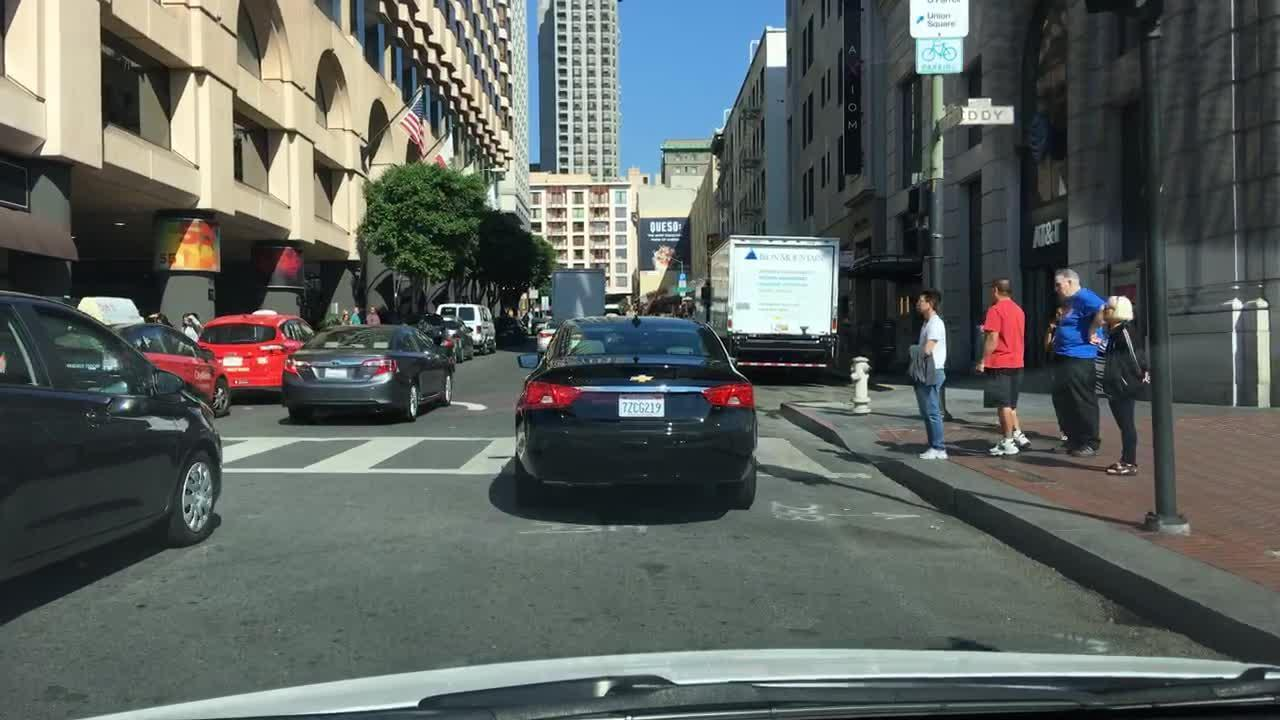chevrolet: (628, 369, 655, 386)
